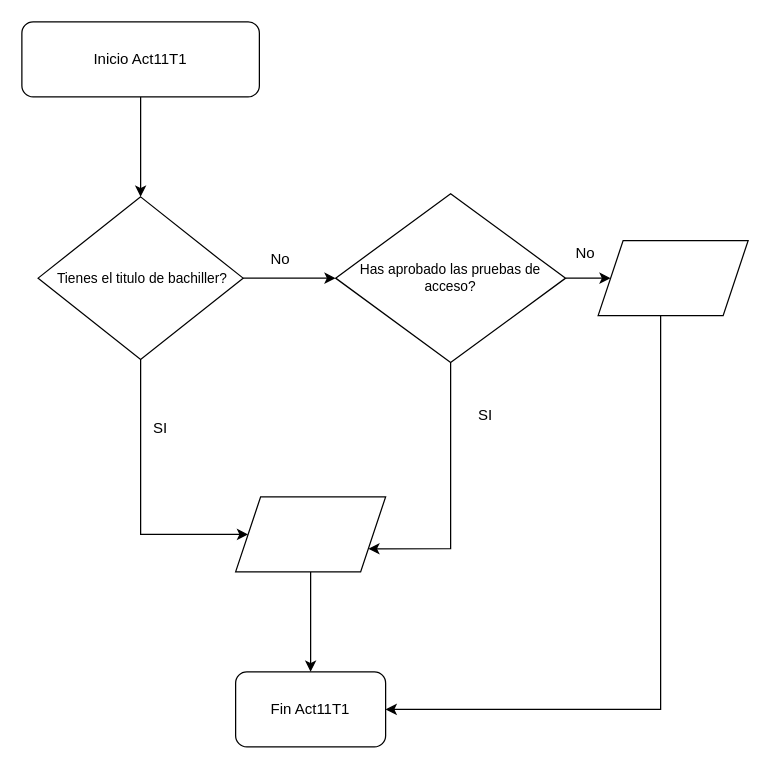
This 770x769 diagram has some shape labels left out. The shapes that lost their labels are listed below. From the top down, each one's centre as x and y in pixels, then its label:
[672,277]: Escribir "No puedes entrar a GS"
[310,534]: Escribir "Puedes entrar a GS"
